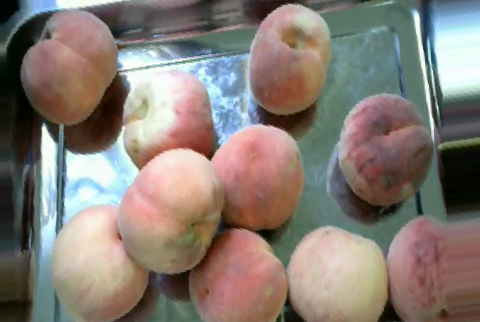Peach: (120, 150, 220, 275), (50, 203, 149, 321), (21, 6, 119, 124), (337, 91, 430, 203), (286, 225, 389, 321), (210, 123, 303, 229), (187, 226, 288, 322), (120, 69, 214, 171), (248, 2, 330, 114)
